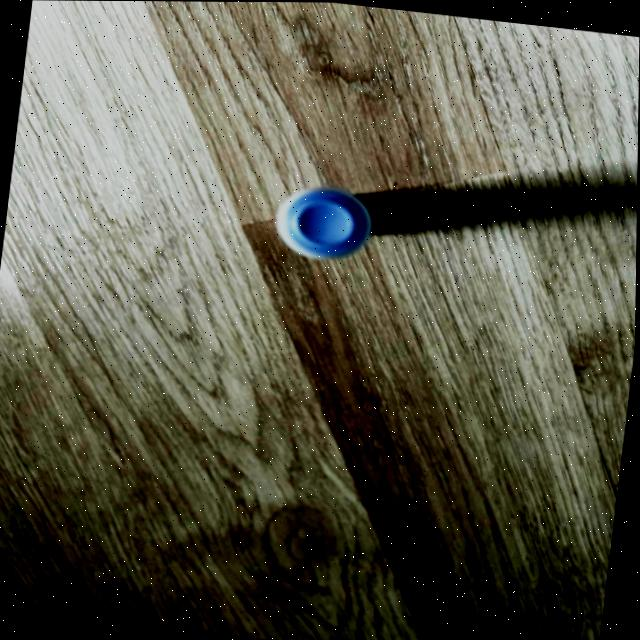HighLight Pen: (278, 188, 374, 257)
